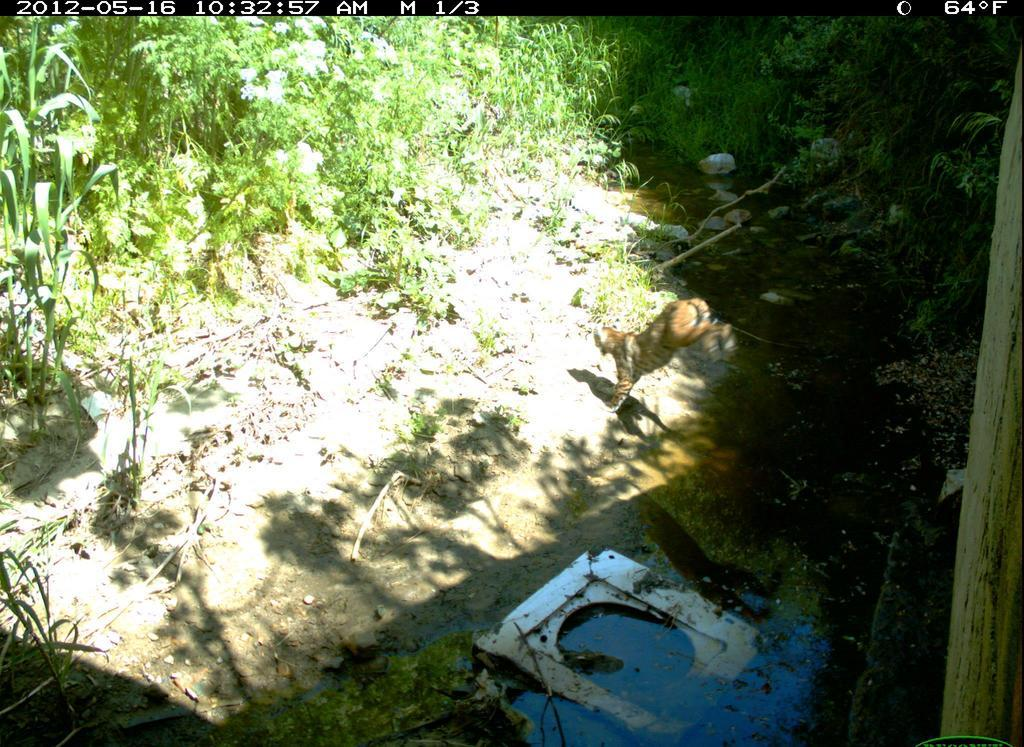bobcat: (587, 292, 742, 424)
